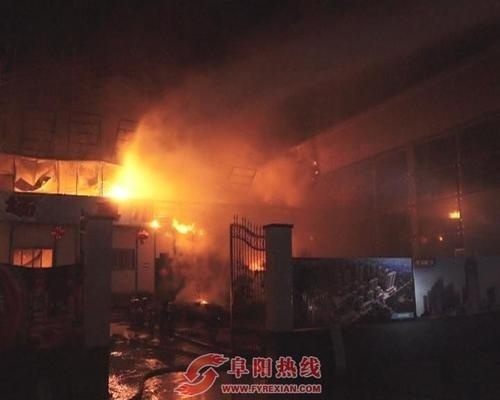fire: (106, 154, 160, 204), (166, 216, 201, 235)
